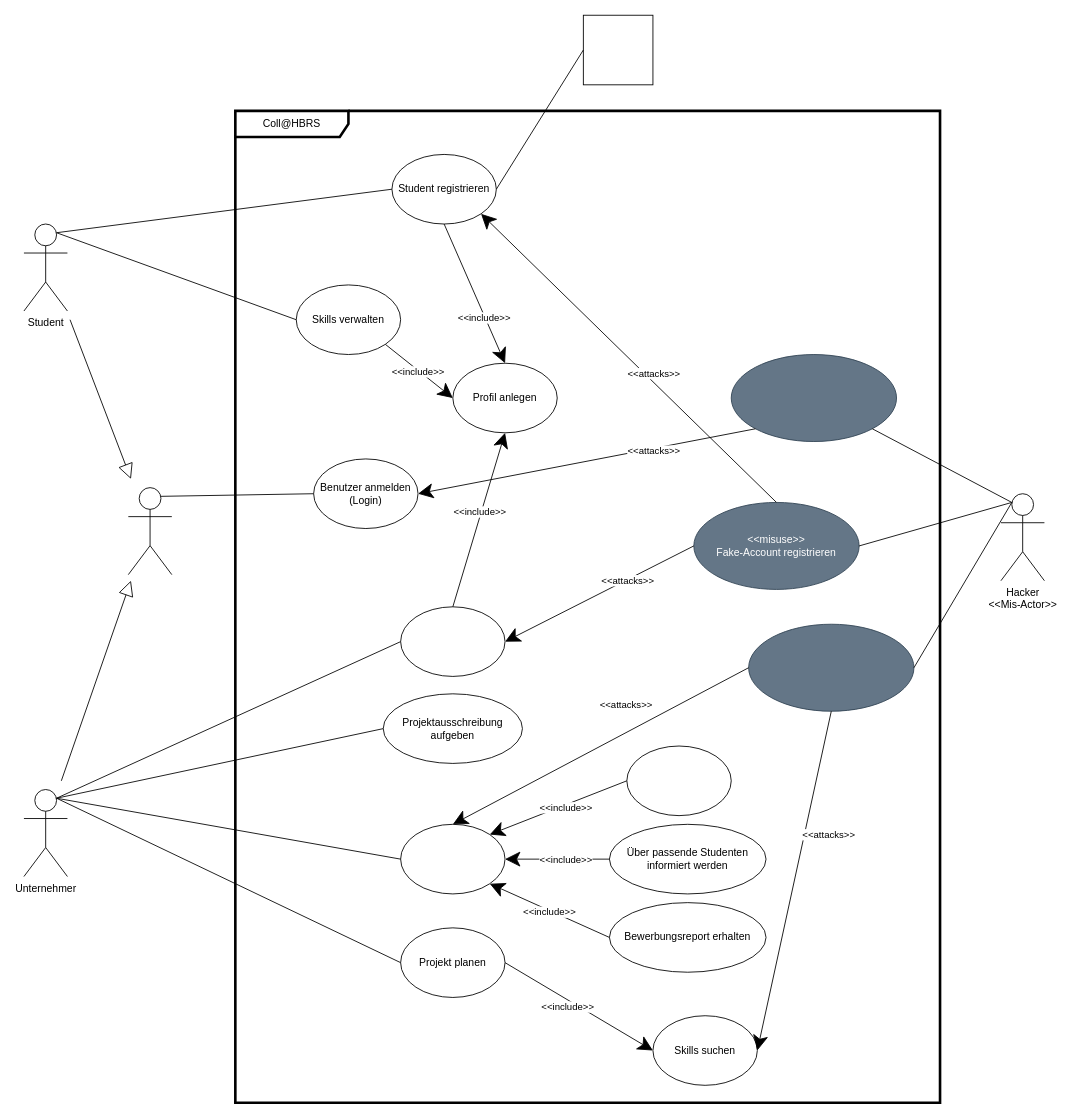
This 1072x1119 diagram has some shape labels left out. The shapes that lost their labels are listed below. From the top down, each one's centre as x and y in pixels, then its label:
At (x=617, y=49): "SIS".
At (x=813, y=398): "<<misuse>> Unbefugten Zugriff auf Benutzerkonto erlangen".
At (x=149, y=531): "User".
At (x=452, y=641): "Unternehmer registrieren".
At (x=831, y=667): "<<misuse>> Studentische Stammdaten ausspähen".
At (x=678, y=780): "Bewerbungen verwalten".
At (x=452, y=858): "Studentische Stammdaten verwalten".
